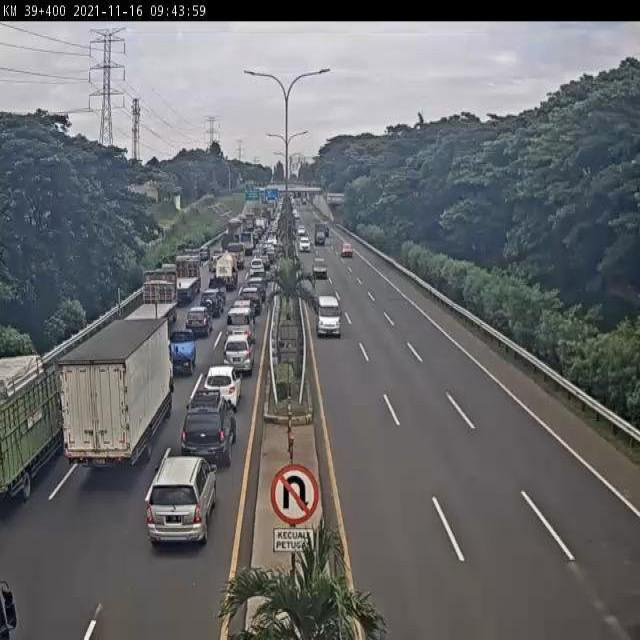car: (143, 456, 218, 548), (179, 394, 237, 466), (199, 367, 240, 413), (313, 293, 344, 340), (224, 329, 255, 376), (169, 328, 199, 375), (224, 306, 258, 342), (183, 304, 213, 339), (199, 289, 223, 320), (240, 288, 263, 315), (234, 299, 258, 324), (246, 272, 268, 299), (249, 256, 266, 279), (313, 258, 328, 282), (339, 240, 353, 260), (300, 234, 311, 254)
truck-l-: (120, 269, 178, 332), (159, 256, 203, 307)
truck-m-: (60, 317, 178, 479), (0, 355, 64, 500), (210, 249, 242, 291)
